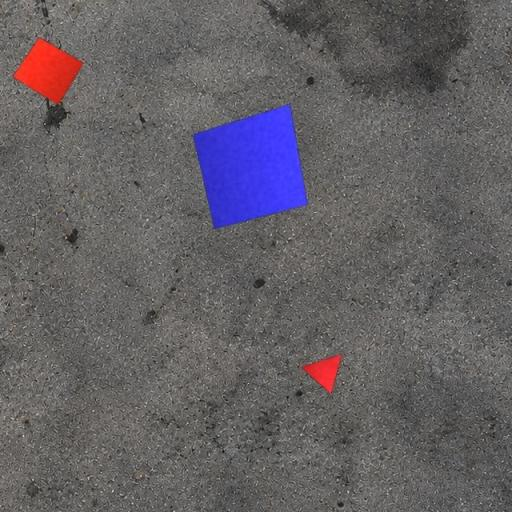BLUE_SQUARE: (192, 104, 308, 230)
RED_SQUARE: (12, 36, 85, 106)
